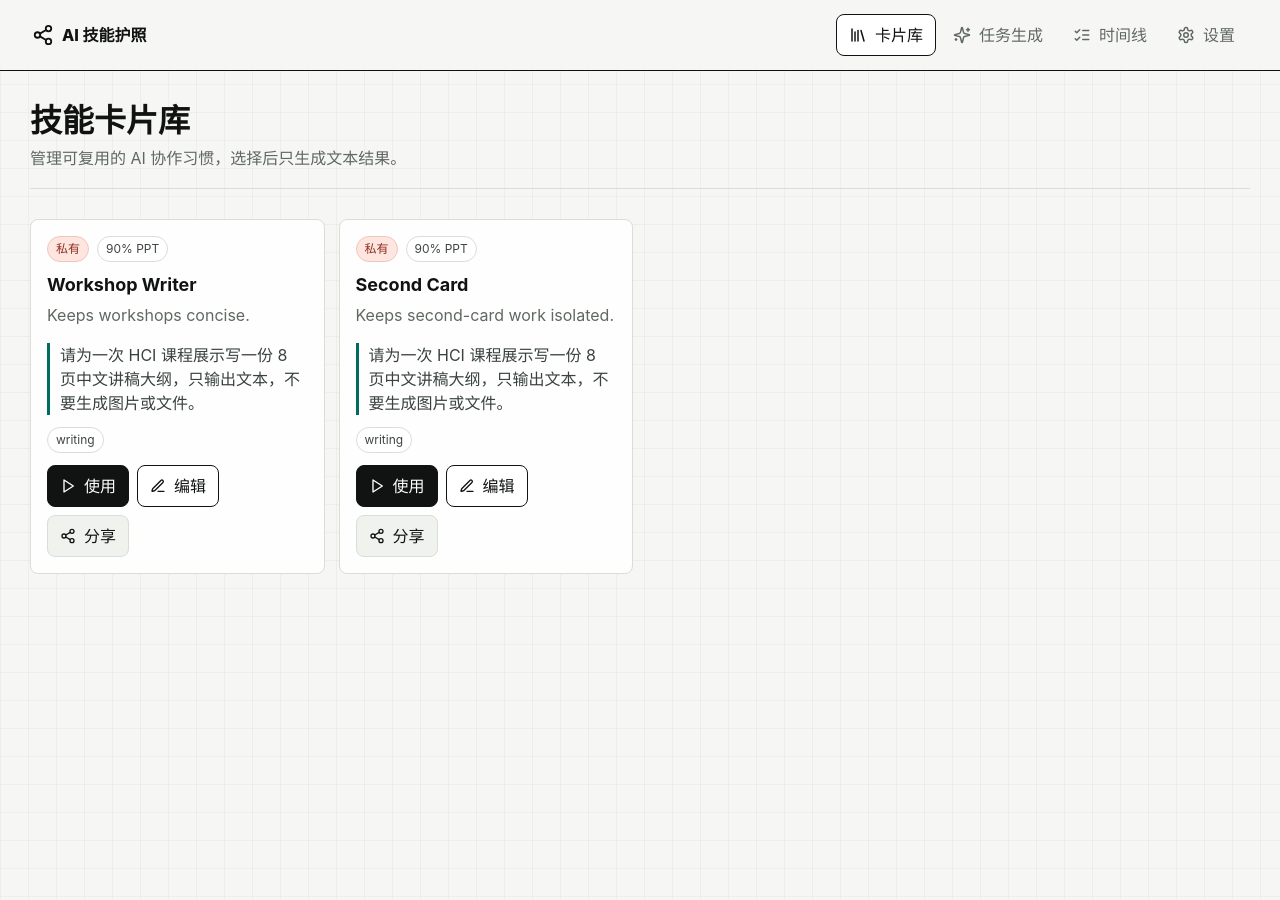
Test case: App › clears a previous dashboard share URL when the next share fails
This screenshot has width=1280, height=900.
Click the button "分享" below "Keeps workshops concise.".
click(88, 536)  # box top-left (47, 515), bottom-right (129, 557)
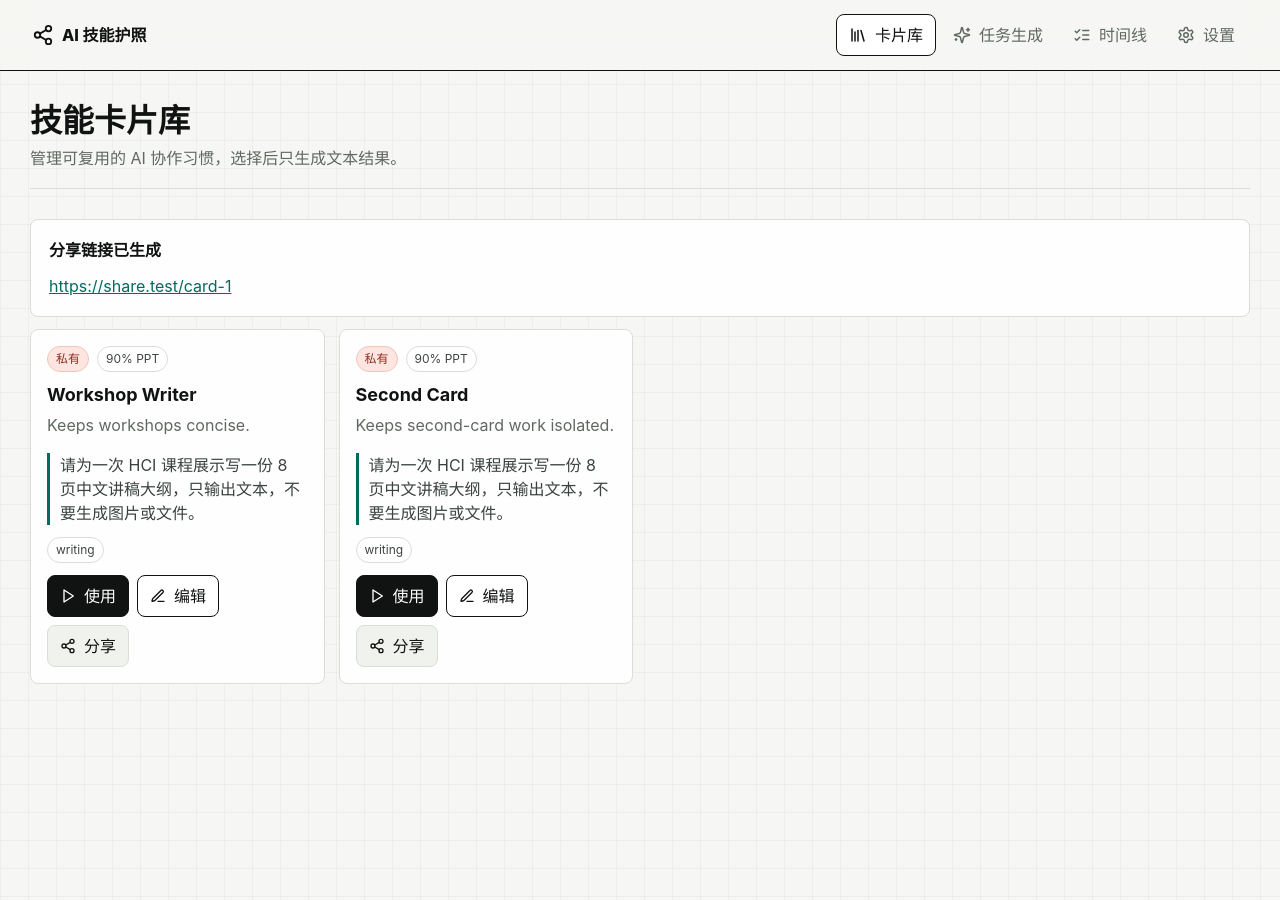
Result: the link "https://share.test/card-1" is shown at top-left (49, 276), bottom-right (232, 296)
Click the button "分享" below "Keeps second-card work isolated.".
click(396, 646)  # box top-left (356, 625), bottom-right (438, 667)
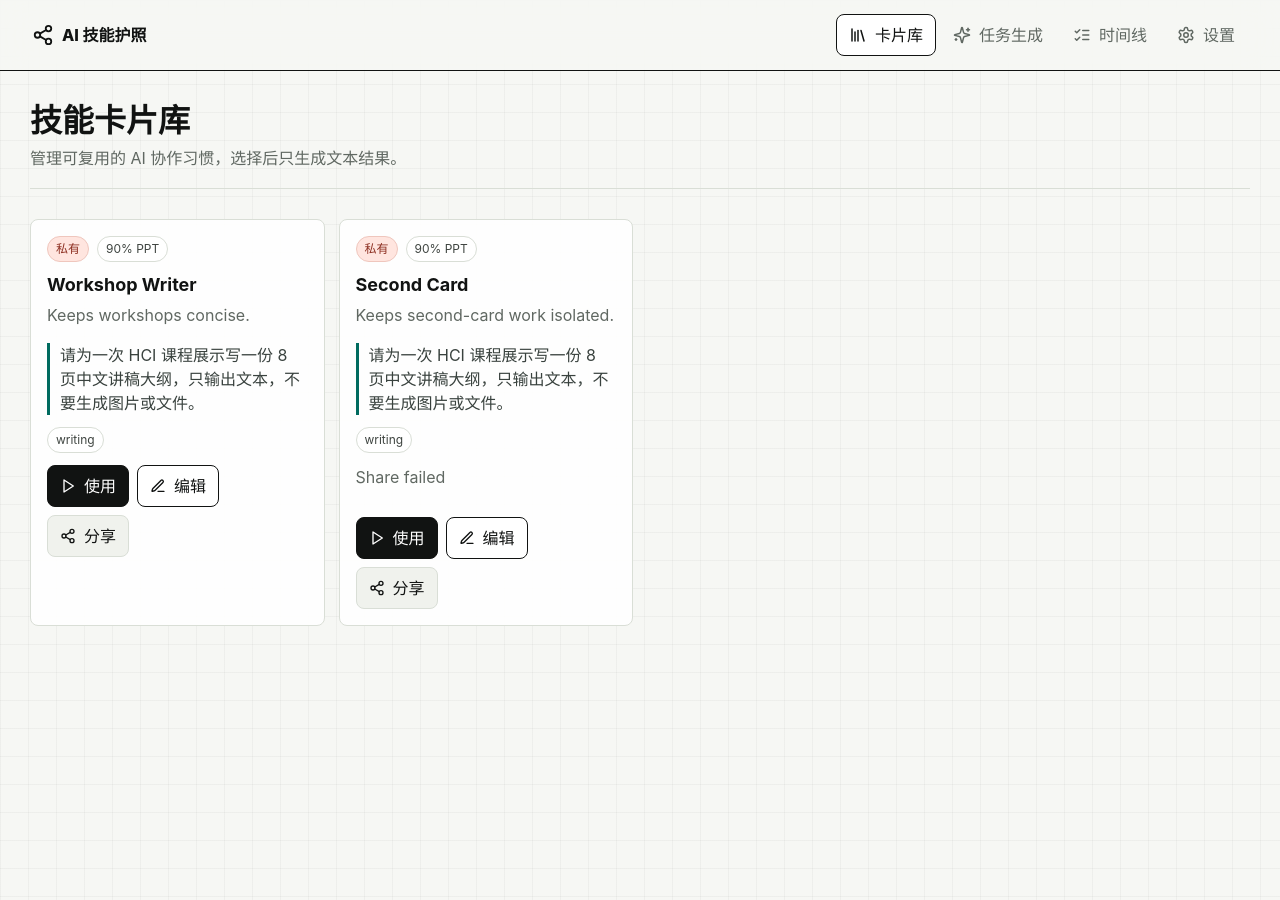
Result: the link "https://share.test/card-1" is gone
Result: the message reads "Share failed" at top-left (356, 467), bottom-right (445, 487)
